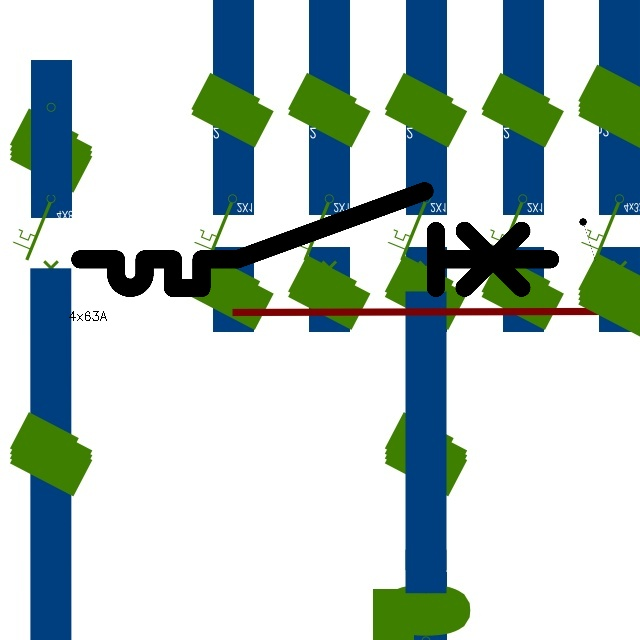interruptor_termomagnetico: (68, 179, 562, 300)
